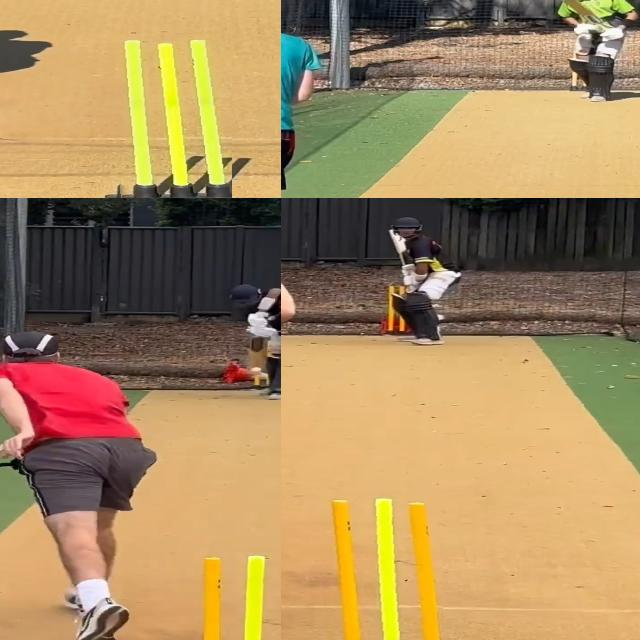Cricket ball: (249, 367, 262, 375)
Stumps: (103, 34, 232, 198), (312, 501, 443, 640), (186, 556, 281, 640)
